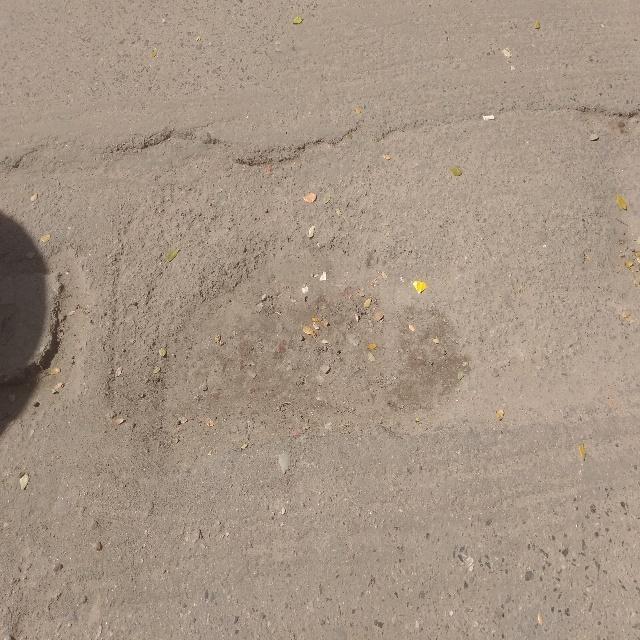Surface Erosion: (20, 52, 640, 564)
